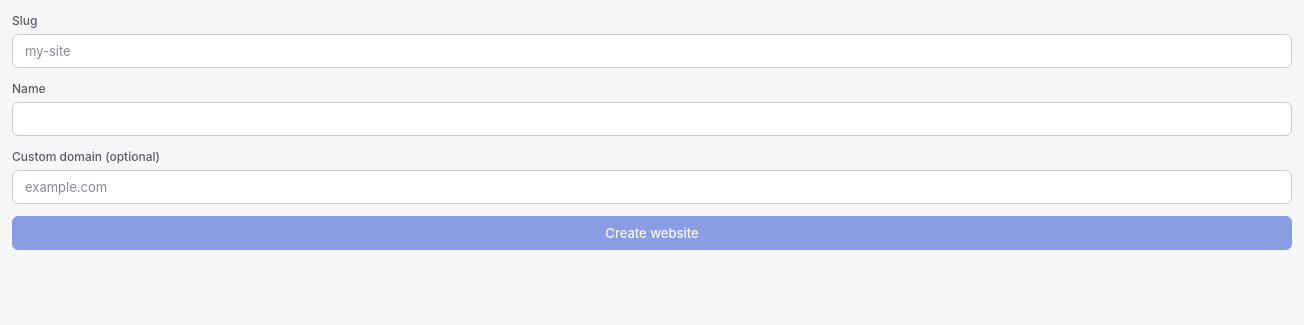
Scenario: CreateWebsiteForm › shows the backend's own validation error verbatim
Type "Not A Slug" into the field labelled "Slug".
click(652, 51); type("Not A Slug")  # box [12, 34, 1292, 68]
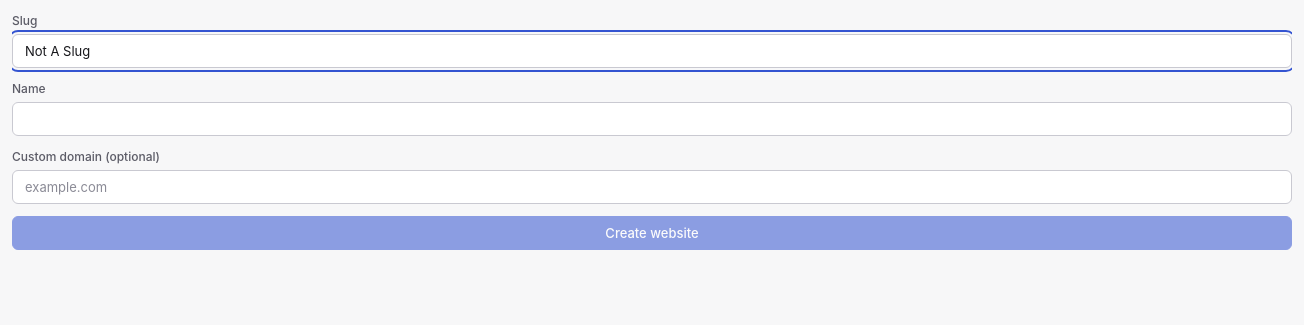
Type "My Site" into the field labelled "Name".
click(652, 119); type("My Site")  # box [12, 102, 1292, 136]
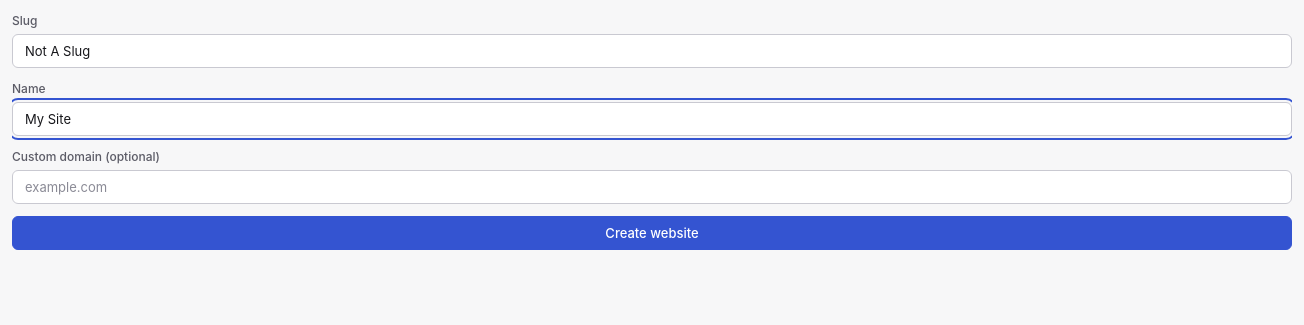
Click the button "Create website".
click(652, 233)  # box [12, 216, 1292, 250]
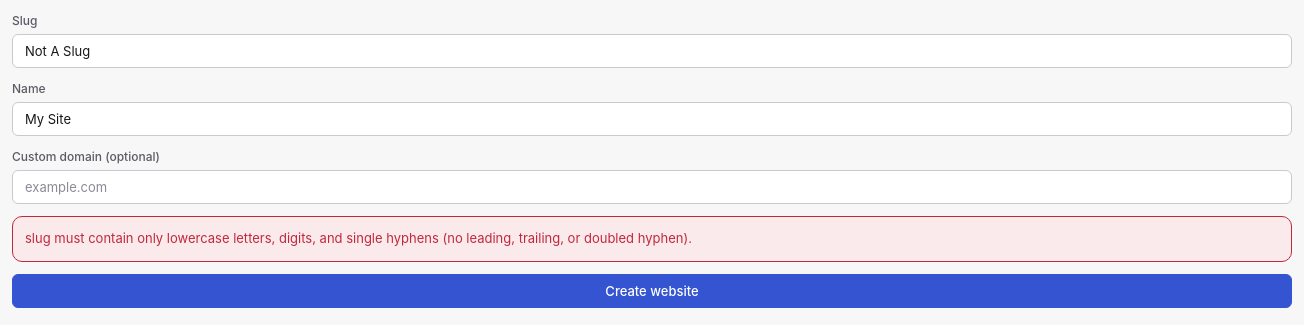
Expected: the text "slug must contain only lowercase letters" is shown, [25, 230, 692, 246]
